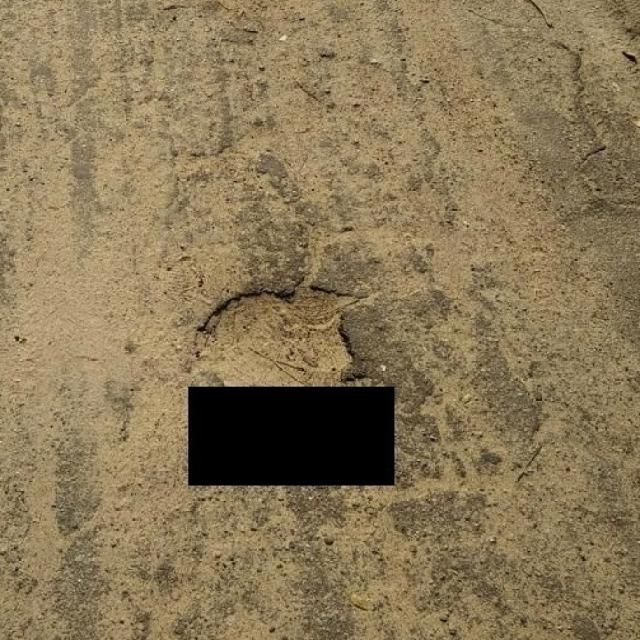road-pothole: (187, 284, 376, 390)
